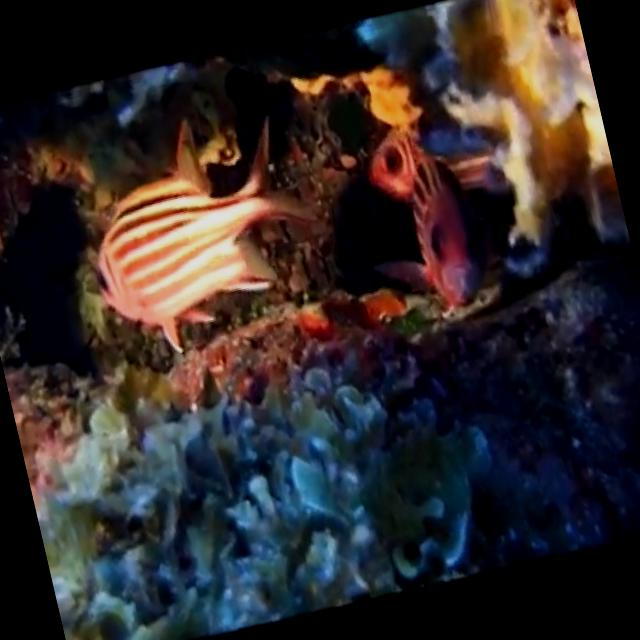Asker Baligi: (64, 91, 344, 369)
